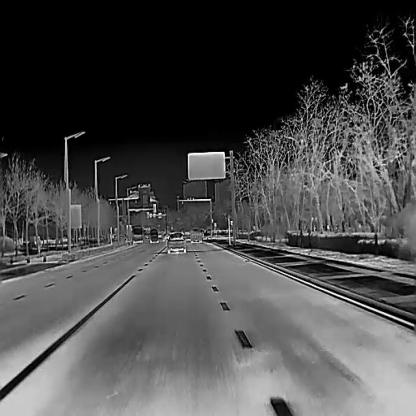bus: (131, 223, 143, 243)
car: (166, 231, 186, 252), (149, 226, 158, 241)
truck: (190, 226, 203, 243)
